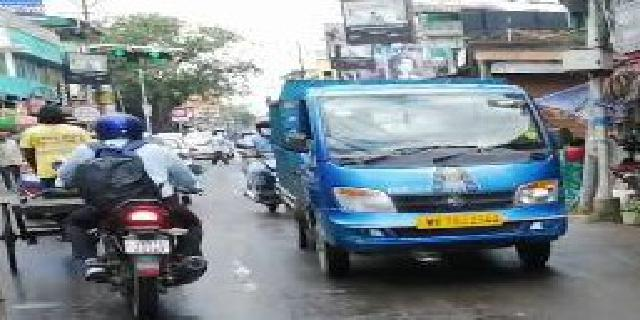Minitruck: (275, 75, 595, 282)
Motorbike: (71, 106, 216, 320)
